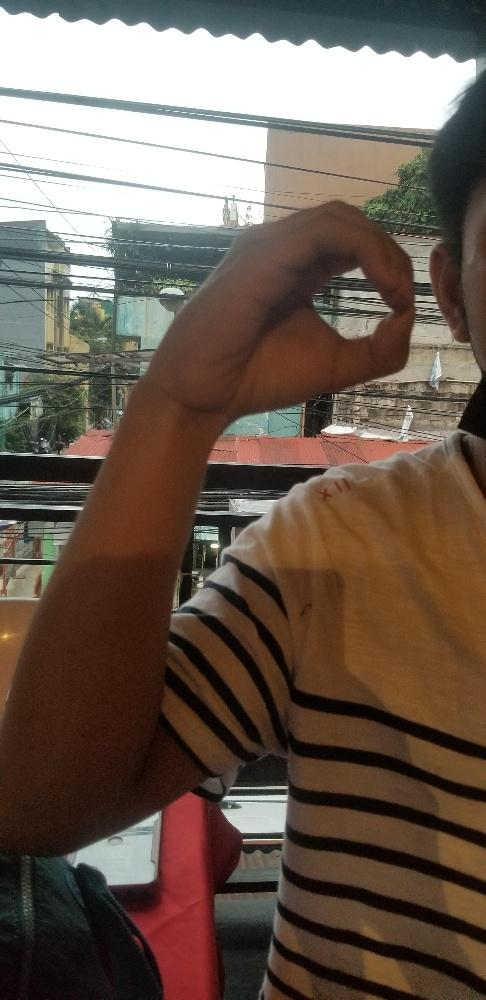o: (158, 197, 416, 416)
